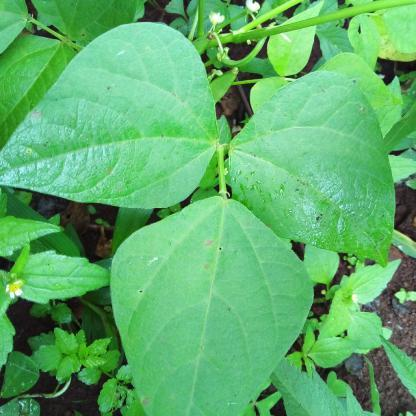Beans_Angular_LeafSpot: (116, 197, 316, 413), (0, 19, 218, 211)
